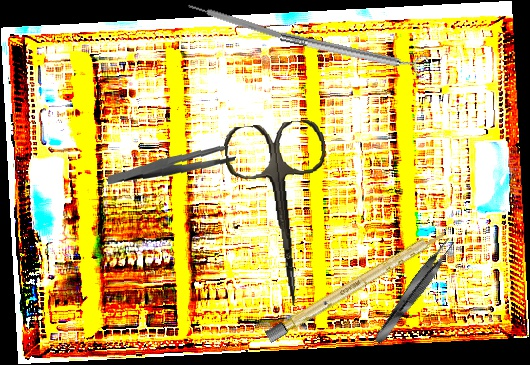Dressing Forceps: (107, 139, 237, 192)
Fixation Ring: (278, 23, 429, 81)
Iris Scissors: (222, 118, 342, 312)
Scalpel Handle: (264, 223, 452, 344), (186, 2, 301, 45)
Tissue Forceps: (369, 234, 459, 348)
